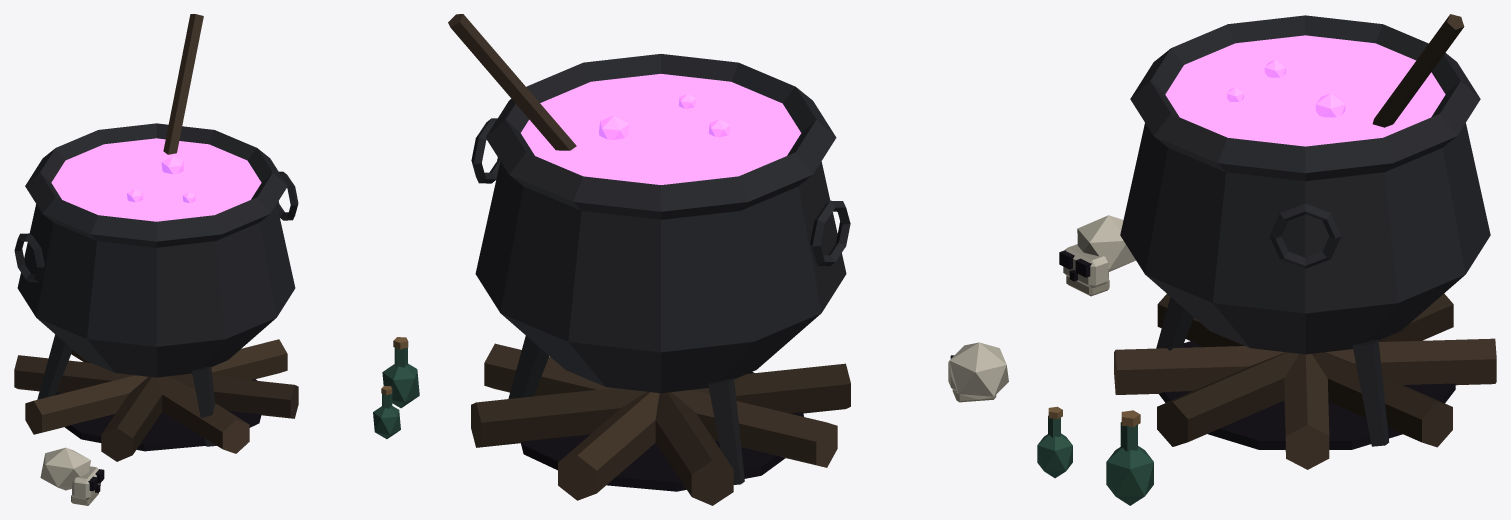
Rendered from witch_cauldron.glb.
The picture shows the model from 3 angles, left to right: view 1: azimuth 30°, elevation 25°; view 2: azimuth 150°, elevation 25°; view 3: azimuth 270°, elevation 25°; orthographic projection. The views are drawn at different scales.
Visible parts, largest first — view 1: WitchCauldron; view 2: WitchCauldron; view 3: WitchCauldron.
Boxes of the visible parts, bbox=[...] form: WitchCauldron: bbox=[14, 14, 419, 505]; WitchCauldron: bbox=[448, 14, 1008, 505]; WitchCauldron: bbox=[1037, 14, 1496, 505].
Bounding box in the file's own units: 1.17 × 0.9676 × 0.9178.
